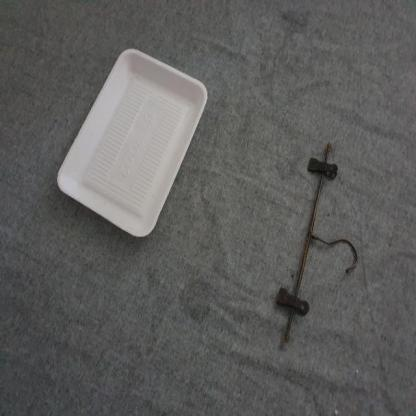Glass Cup: (57, 48, 207, 237), (57, 49, 207, 237)
